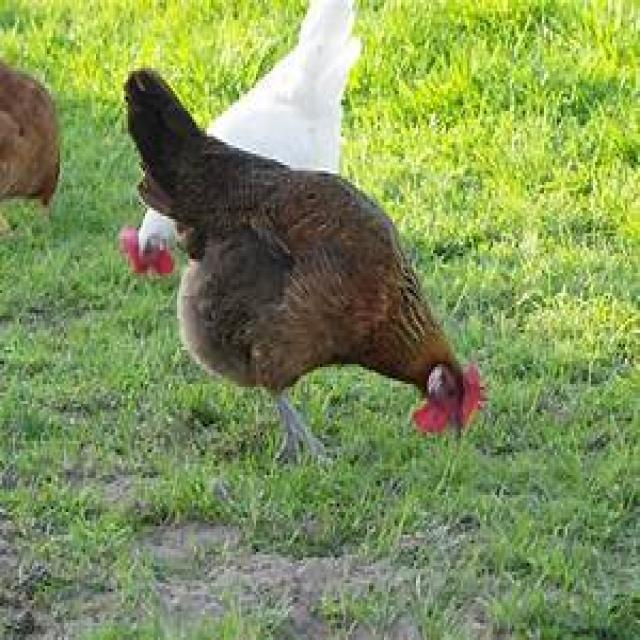hen: (122, 68, 486, 464)
